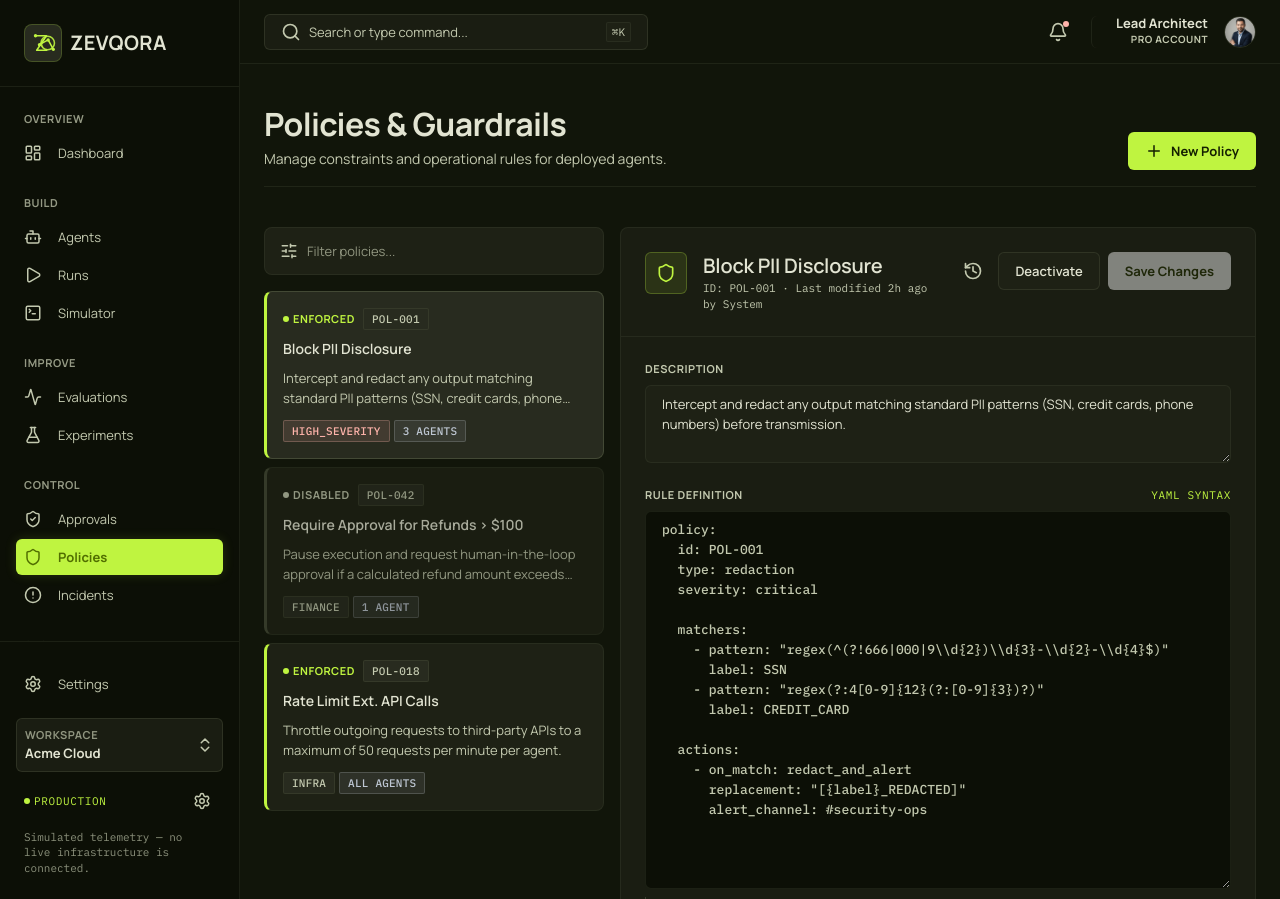
Test: Policies › toggles policy enforcement state
Expected: the heading "Block PII Disclosure" is shown, [703,252,883,279]
Click the button "Deactivate": (1049, 271) [998,252,1100,290]
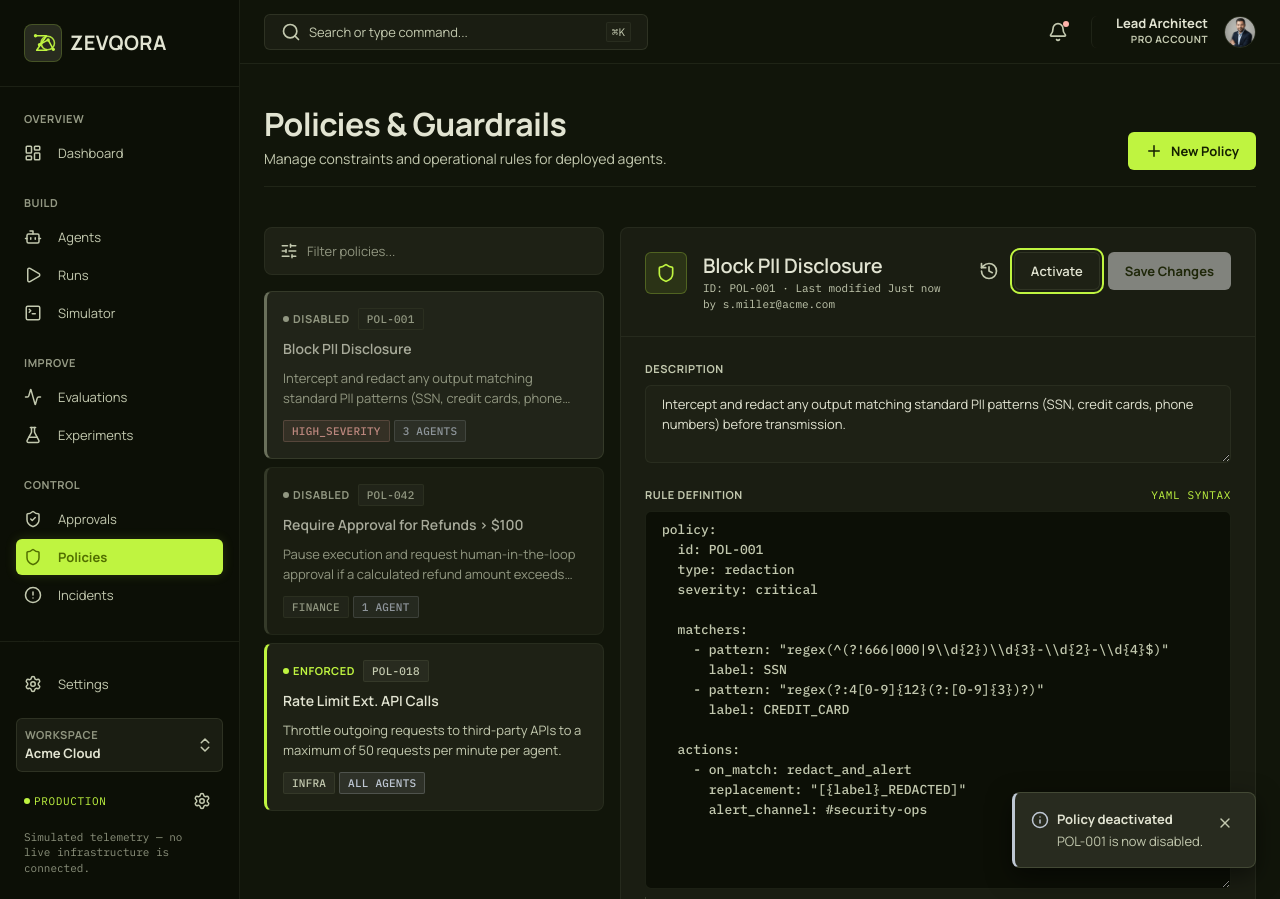
Expected: the button "Activate" is shown, [1014,252,1100,290]
Expected: the text "Policy deactivated" is shown, [1057,810,1173,828]
